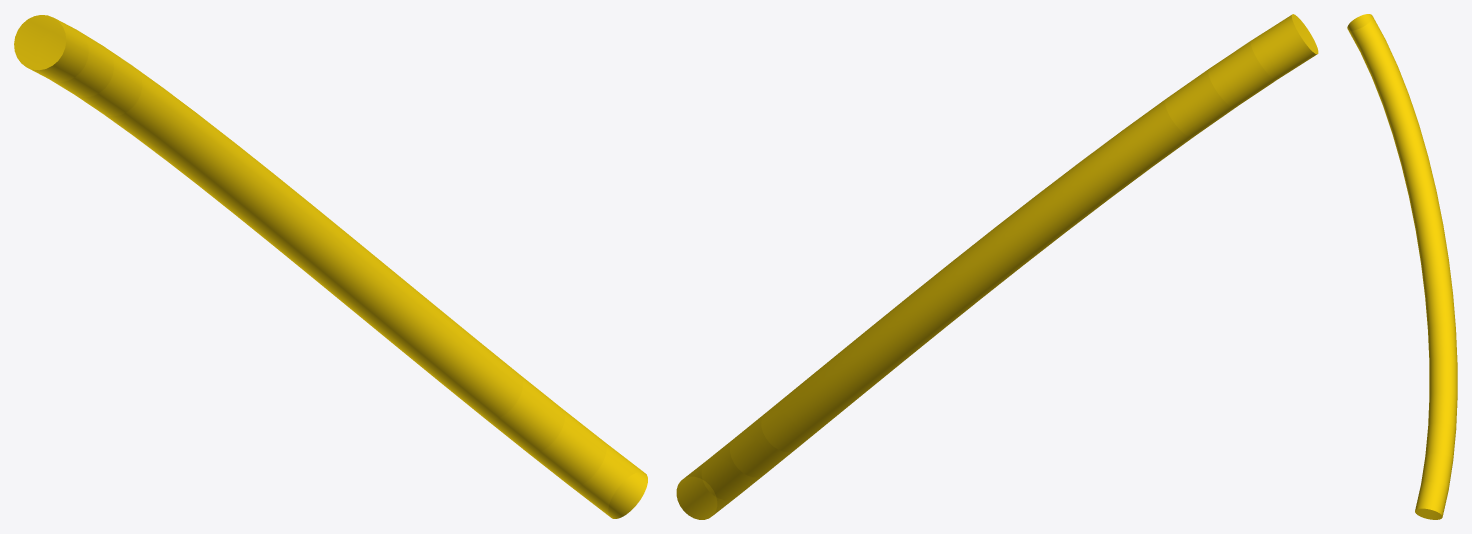
File: Event_421115418_track_172.fbx
3 views of the same model, side by side, from view 1: azimuth 30°, elevation 25°; view 2: azimuth 150°, elevation 25°; view 3: azimuth 270°, elevation 25° (orthographic). The views are drawn at different scales.
Parts seen in each view (by area): view 1: Model; view 2: Model; view 3: Model.
Boxes of the visible parts, x1,y1,x2,y2 form: Model: (14,15,647,518); Model: (676,14,1318,519); Model: (1347,14,1457,519).
Bounding box in the file's own units: 0.5637 × 0.5478 × 0.1557.
